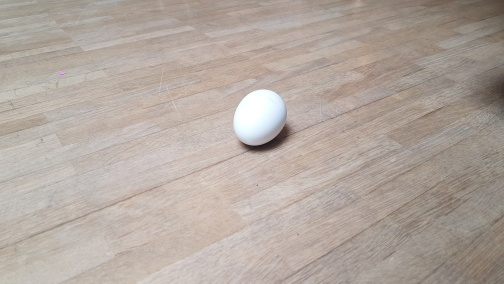egg: (231, 87, 287, 147)
